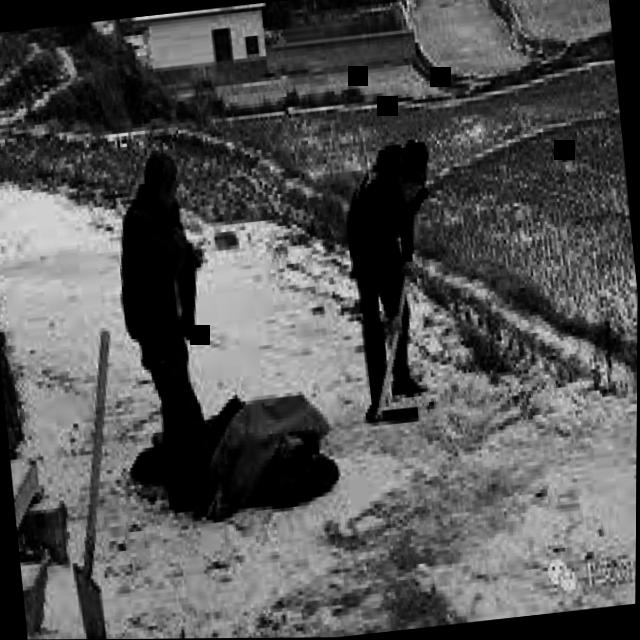Fall-Detected: (107, 359, 352, 526)
